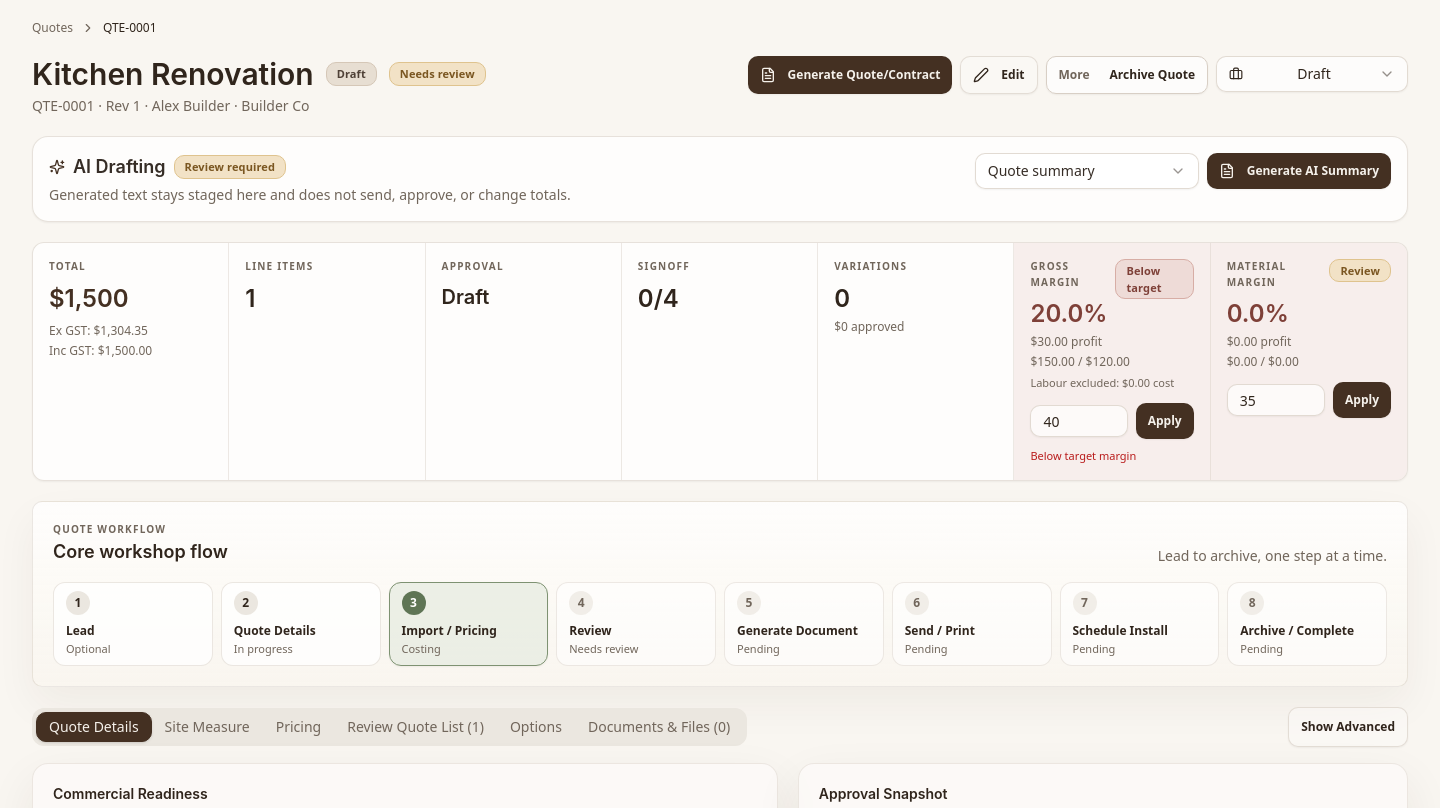
it: QuoteDetail › asks for a section when confirming an every job inclusion
Expected: the heading "Kitchen Renovation" is shown, [32, 56, 314, 92]
Click the tab "Review Quote List (1)" at (416, 727), box [334, 712, 497, 742]
(page scrolled)
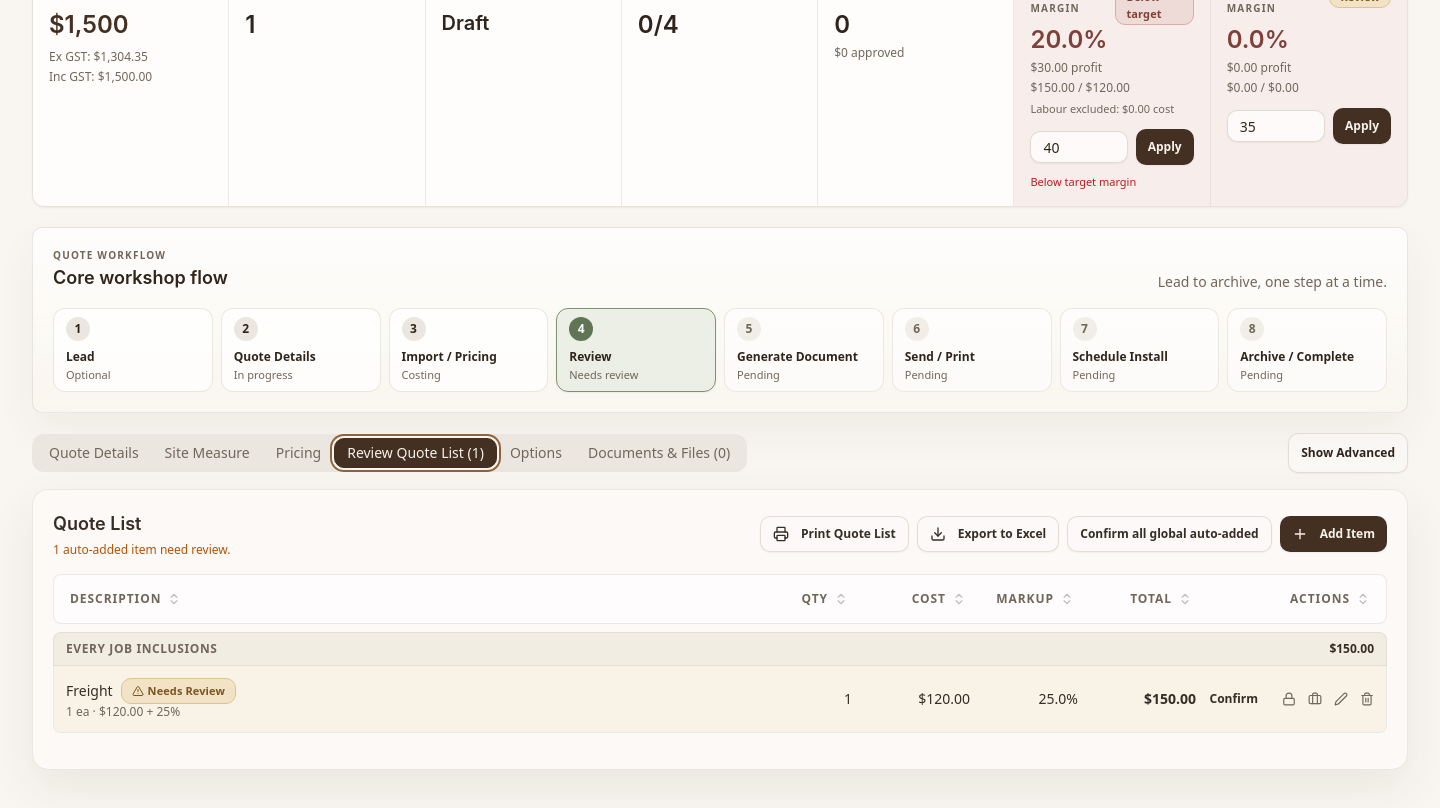
Click the button "Confirm" at (1234, 699), box [1198, 681, 1270, 717]
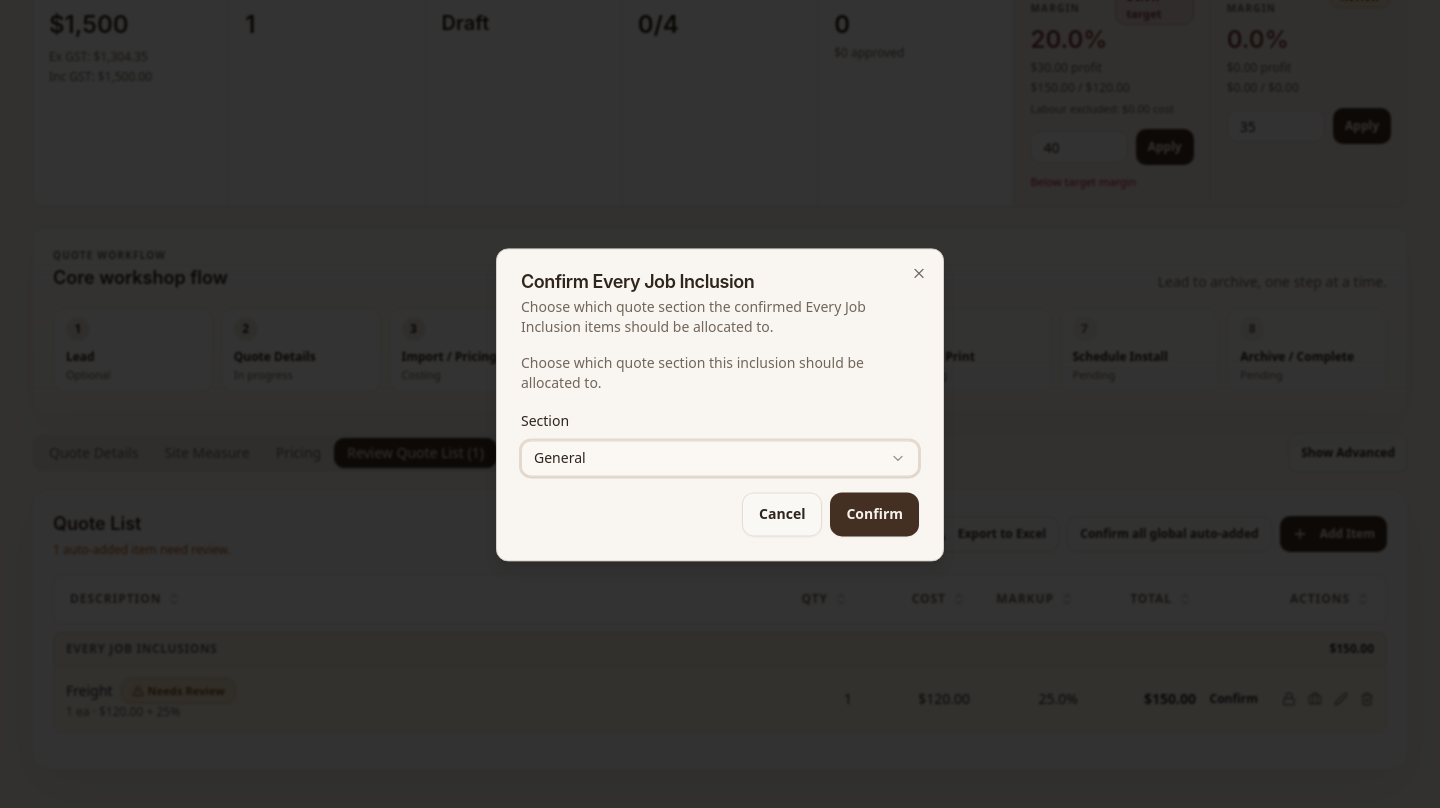
Expected: the heading "Confirm Every Job Inclusion" is shown, [521, 271, 754, 292]
Expected: the text "Choose which quote section" is shown, [521, 297, 866, 336]
